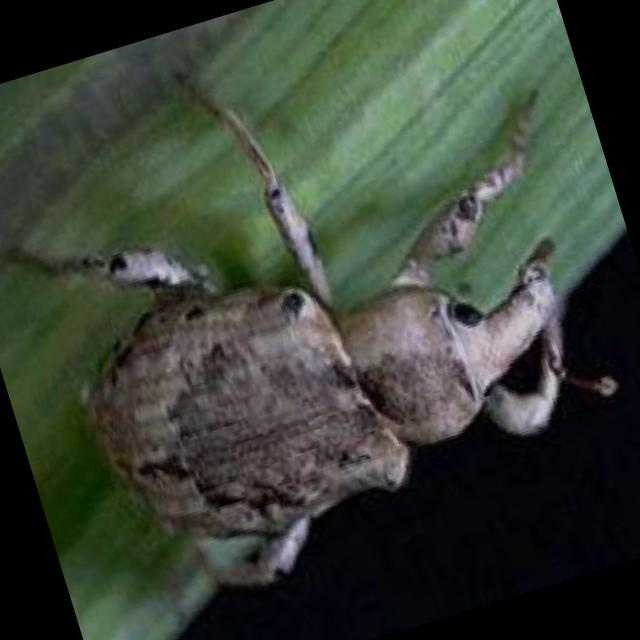rice-bug: (0, 0, 625, 619)
